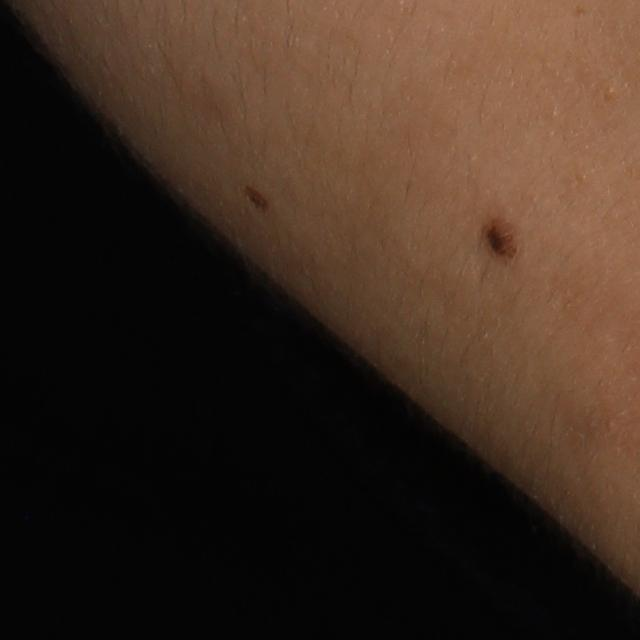nevus: (483, 219, 516, 264), (246, 180, 275, 211)
